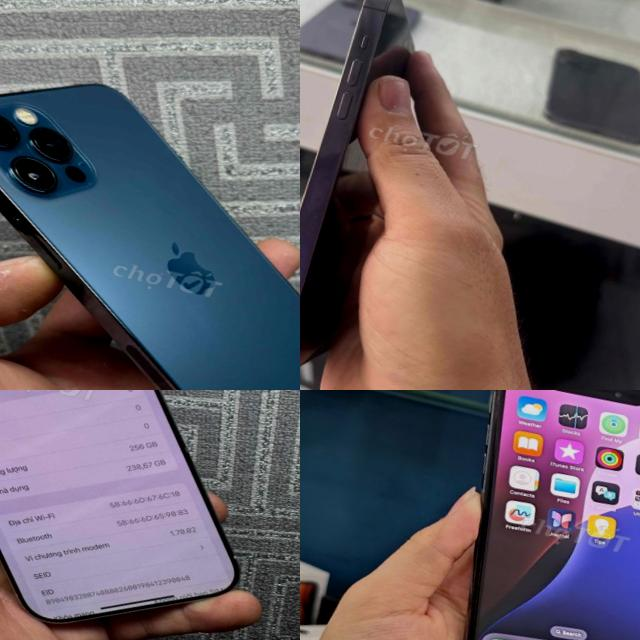gen_12_13: (0, 44, 300, 390)
gen_14: (300, 0, 435, 385)
gen_16: (0, 390, 236, 621)
gen_x_xs: (403, 390, 640, 640)
